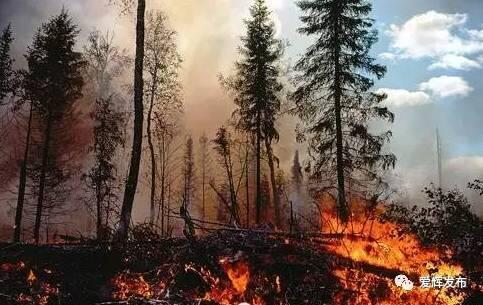fire: (323, 198, 464, 305), (198, 255, 248, 305), (113, 270, 166, 300)
smoke: (147, 11, 261, 229), (7, 9, 99, 233)
